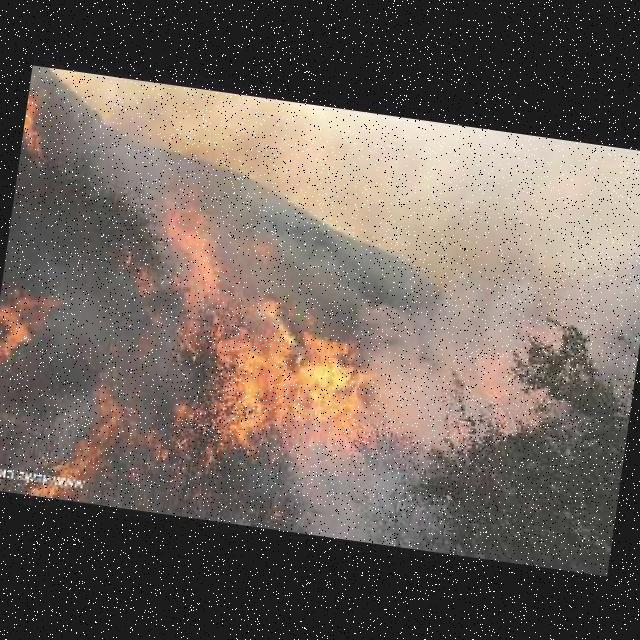Fire: (127, 164, 410, 481), (48, 375, 133, 482), (0, 274, 62, 373), (25, 86, 58, 157)
Smoke: (351, 218, 603, 467)
